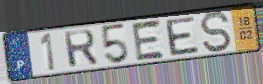1: (39, 31, 57, 72)
5: (98, 22, 131, 65)
E: (130, 17, 167, 63), (163, 15, 201, 57)
R: (62, 28, 100, 70)
S: (198, 10, 233, 54)
